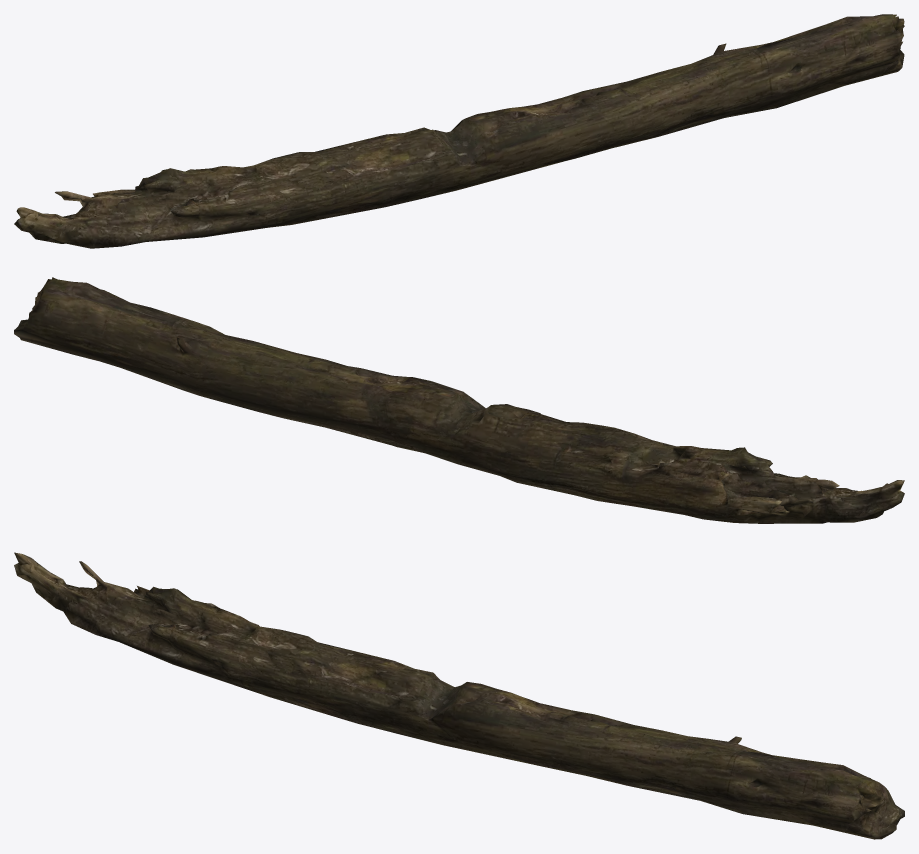
File: dead_tree_trunk.glb
3 views of the same model, one above another, from view 1: azimuth 30°, elevation 25°; view 2: azimuth 150°, elevation 25°; view 3: azimuth 330°, elevation 25° (orthographic).
Parts seen in each view (by area): view 1: dead_tree_trunk; view 2: dead_tree_trunk; view 3: dead_tree_trunk.
Boxes of the visible parts, box(x1,y1,x2,y2) form: dead_tree_trunk: box(14, 14, 904, 248); dead_tree_trunk: box(14, 277, 904, 523); dead_tree_trunk: box(14, 552, 904, 839).
Size of the model in its own units: 3.04 by 0.2869 by 0.2751.
Materials: 1 (1 with a texture image).
